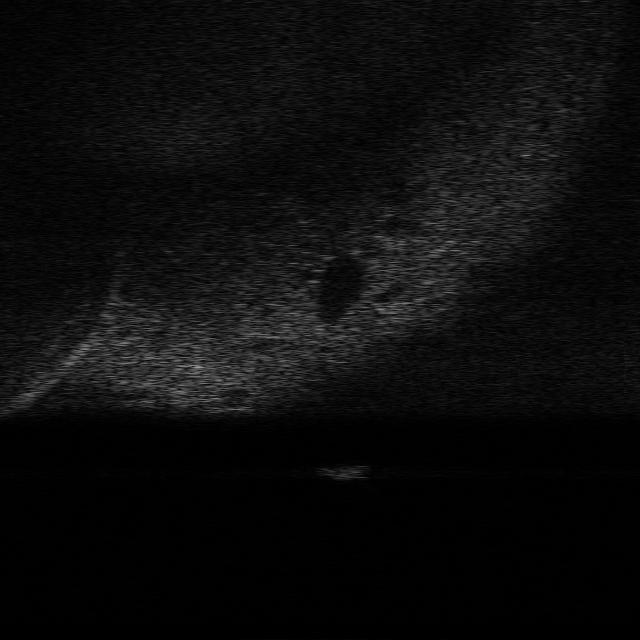cube: (314, 460, 375, 480)
